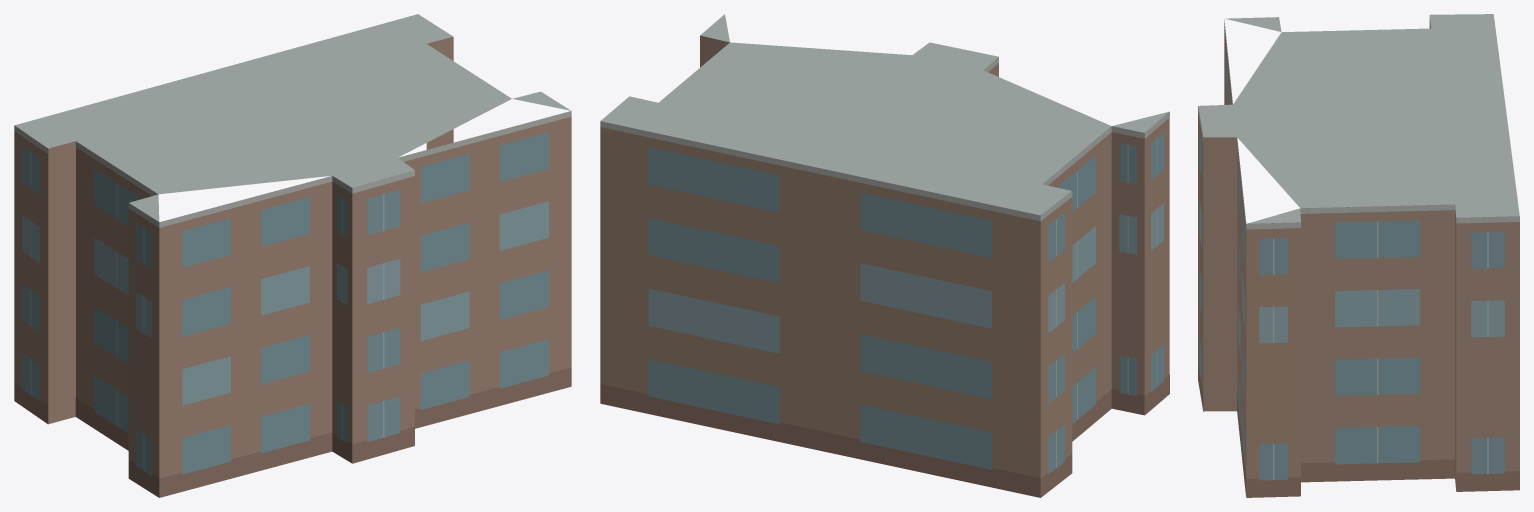
Rendered from survey-upis-32781159.glb.
3 renders of one model, left to right at view 1: azimuth 30°, elevation 25°; view 2: azimuth 150°, elevation 25°; view 3: azimuth 270°, elevation 25°, orthographic. The views are drawn at different scales.
Visible parts, largest first — view 1: survey-upis-32781159.tmp; view 2: survey-upis-32781159.tmp; view 3: survey-upis-32781159.tmp.
Boxes of the visible parts, box(x1,y1,x2,y2) form: survey-upis-32781159.tmp: box(14, 14, 571, 497); survey-upis-32781159.tmp: box(600, 14, 1169, 497); survey-upis-32781159.tmp: box(1198, 14, 1519, 497).
Bounding box in the file's own units: 19.22 × 11.7 × 12.46.
